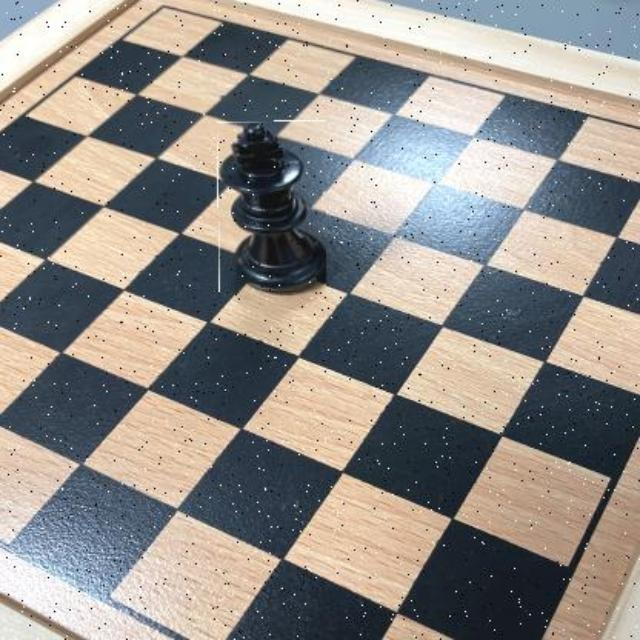black-king: (218, 121, 328, 294)
